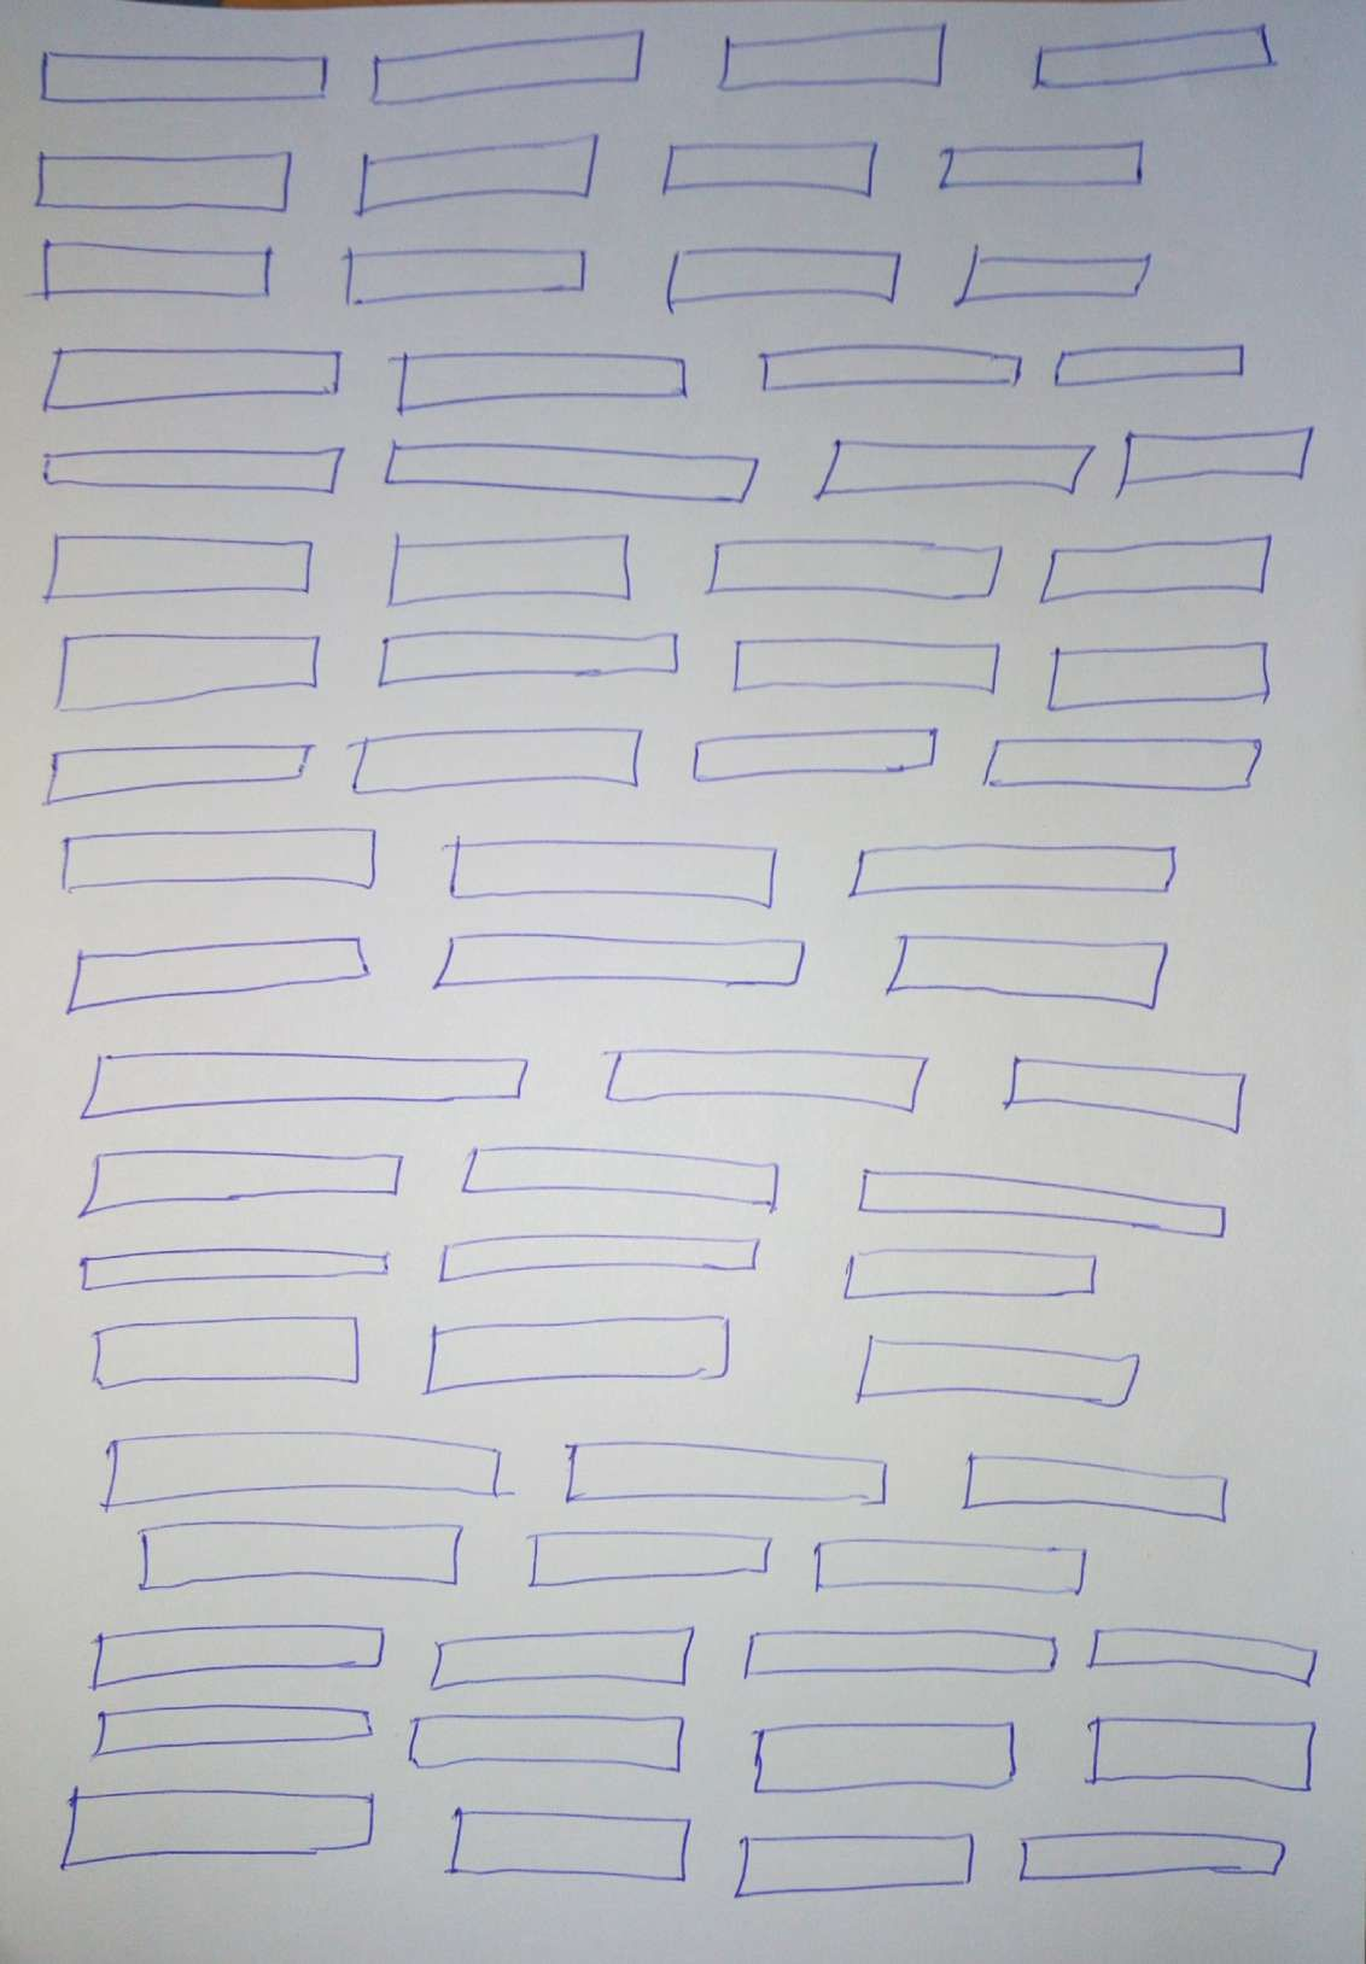Textbox: (99, 1427, 506, 1515), (75, 1051, 531, 1121), (57, 1783, 379, 1873), (855, 1169, 1227, 1242), (422, 1313, 732, 1397), (64, 936, 372, 1018), (343, 722, 649, 804), (445, 836, 776, 910), (381, 440, 760, 504), (73, 1148, 405, 1221), (52, 628, 322, 716), (882, 931, 1170, 1013), (431, 933, 809, 994), (134, 1521, 463, 1589), (369, 28, 646, 107), (88, 1313, 364, 1392), (60, 825, 378, 894), (458, 1145, 781, 1212), (852, 1336, 1145, 1409), (40, 342, 343, 412), (352, 131, 602, 216), (561, 1440, 888, 1504), (602, 1051, 929, 1113), (749, 1721, 1018, 1795), (90, 1624, 387, 1691), (846, 842, 1179, 901), (384, 531, 634, 610), (700, 537, 1006, 601), (1005, 1055, 1248, 1136), (40, 742, 325, 810), (40, 533, 314, 604), (376, 627, 681, 689), (440, 1809, 696, 1883), (811, 434, 1100, 500), (1032, 531, 1279, 607), (390, 351, 690, 413), (963, 1454, 1230, 1524), (814, 1530, 1085, 1598), (1032, 19, 1281, 93), (425, 1625, 696, 1692), (732, 1828, 979, 1901), (1085, 1716, 1320, 1792), (434, 1233, 761, 1286), (31, 149, 297, 215), (979, 731, 1264, 792), (408, 1712, 684, 1774), (714, 21, 949, 94), (1041, 640, 1273, 712), (39, 48, 331, 104), (742, 1628, 1057, 1680), (40, 442, 345, 495), (90, 1703, 375, 1760), (340, 243, 590, 307), (37, 237, 275, 304), (525, 1527, 773, 1591), (663, 248, 902, 313), (729, 636, 1005, 692), (1112, 419, 1315, 495), (688, 725, 941, 786), (81, 1245, 393, 1294), (839, 1246, 1102, 1304), (1018, 1830, 1290, 1883), (1084, 1627, 1320, 1688), (757, 343, 1026, 395), (658, 140, 879, 200), (949, 249, 1153, 307), (936, 137, 1147, 193), (1050, 340, 1250, 390)
